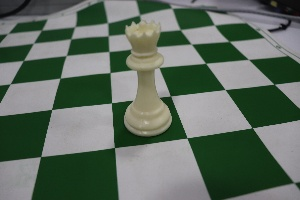white_queen: (114, 12, 174, 141)
